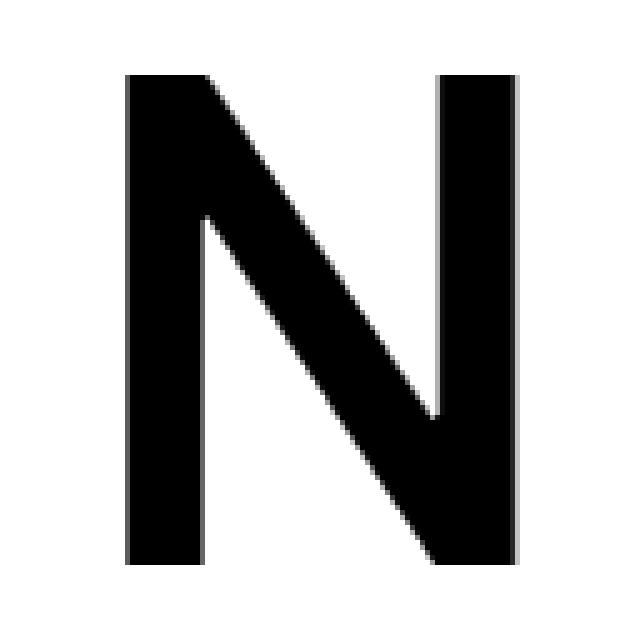N: (115, 60, 525, 570)
